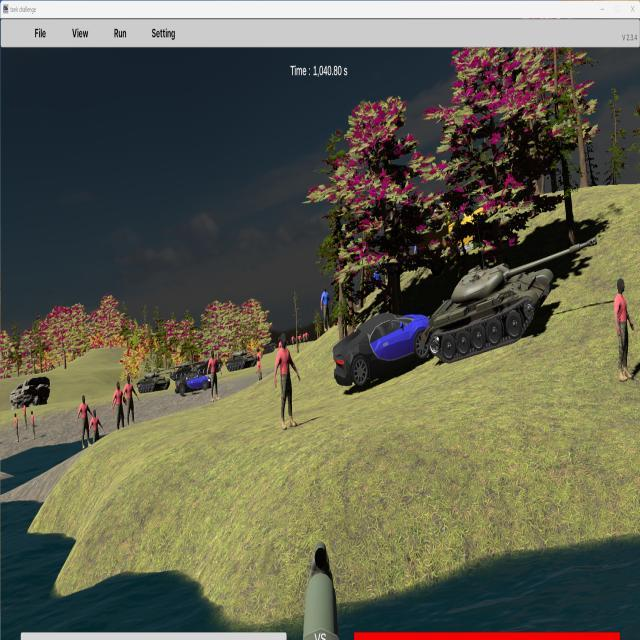Human: (274, 333, 300, 429), (615, 277, 634, 382), (122, 374, 139, 429), (77, 394, 93, 450), (112, 380, 128, 436), (207, 350, 223, 402), (89, 408, 104, 456)
Tank: (429, 237, 598, 363), (136, 367, 179, 394), (226, 349, 257, 372)
car: (332, 311, 434, 390), (176, 367, 213, 395)
